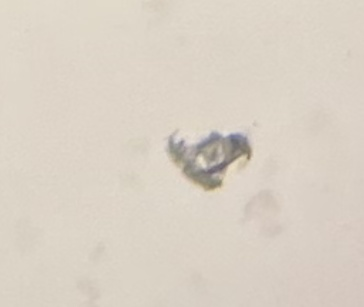microplastic: (166, 128, 252, 192)
